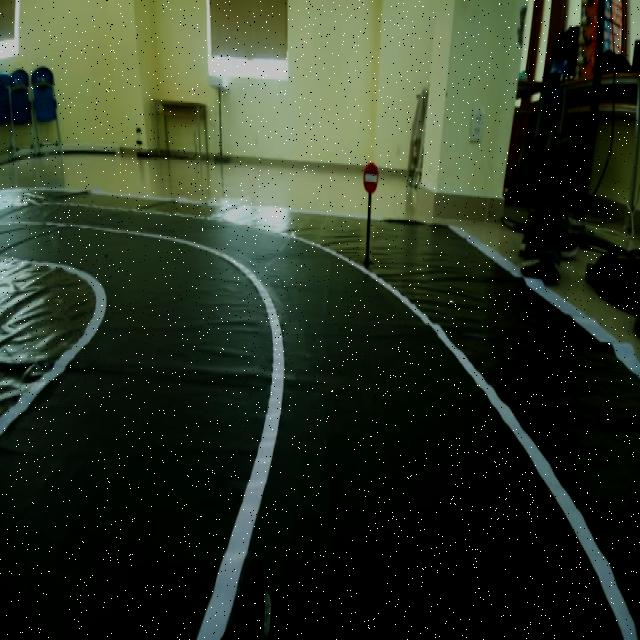no_entry: (361, 159, 381, 196)
